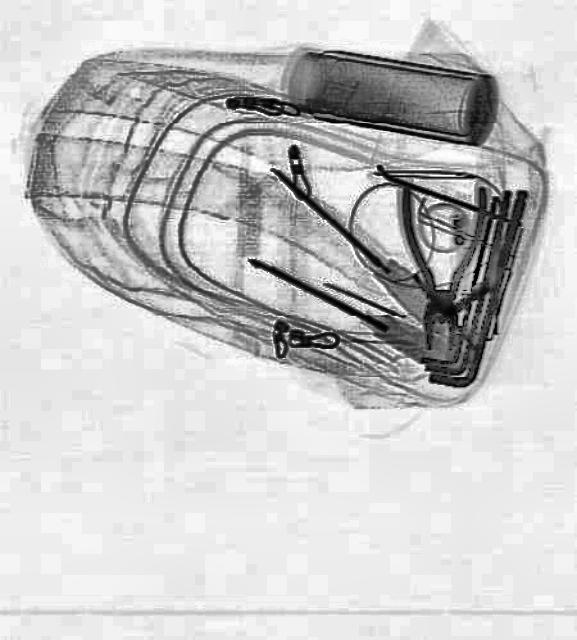Pliers: (395, 181, 485, 353)
